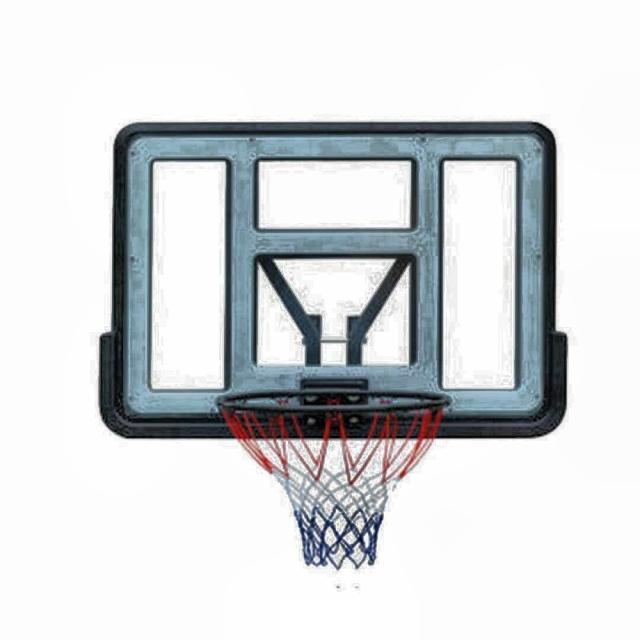rim: (216, 391, 454, 571)
